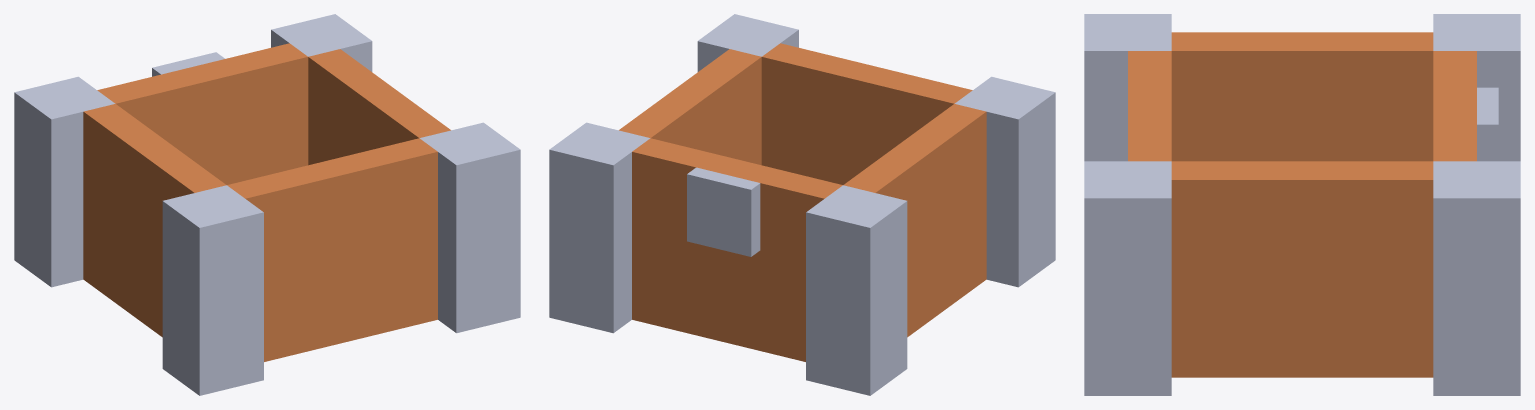
File: chest-iron.glb
3 views of the same model, side by side, from view 1: azimuth 30°, elevation 25°; view 2: azimuth 150°, elevation 25°; view 3: azimuth 270°, elevation 25° (orthographic). The views are drawn at different scales.
Parts seen in each view (by area): view 1: chest.002; view 2: chest.002; view 3: chest.002.
Part boxes in pixels (<box>): chest.002: <box>14,14,520,395</box>; chest.002: <box>549,14,1055,395</box>; chest.002: <box>1084,14,1520,395</box>.
Bounding box in the file's own units: 0.5 × 0.25 × 0.5.
